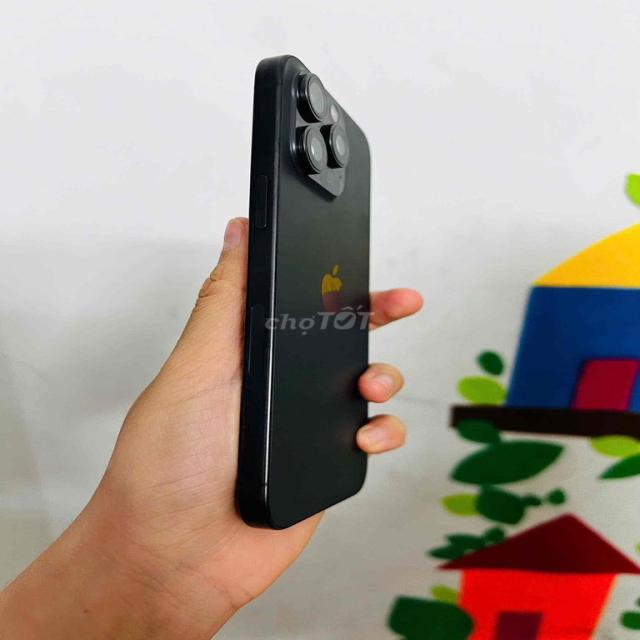gen_15: (218, 38, 406, 531)
